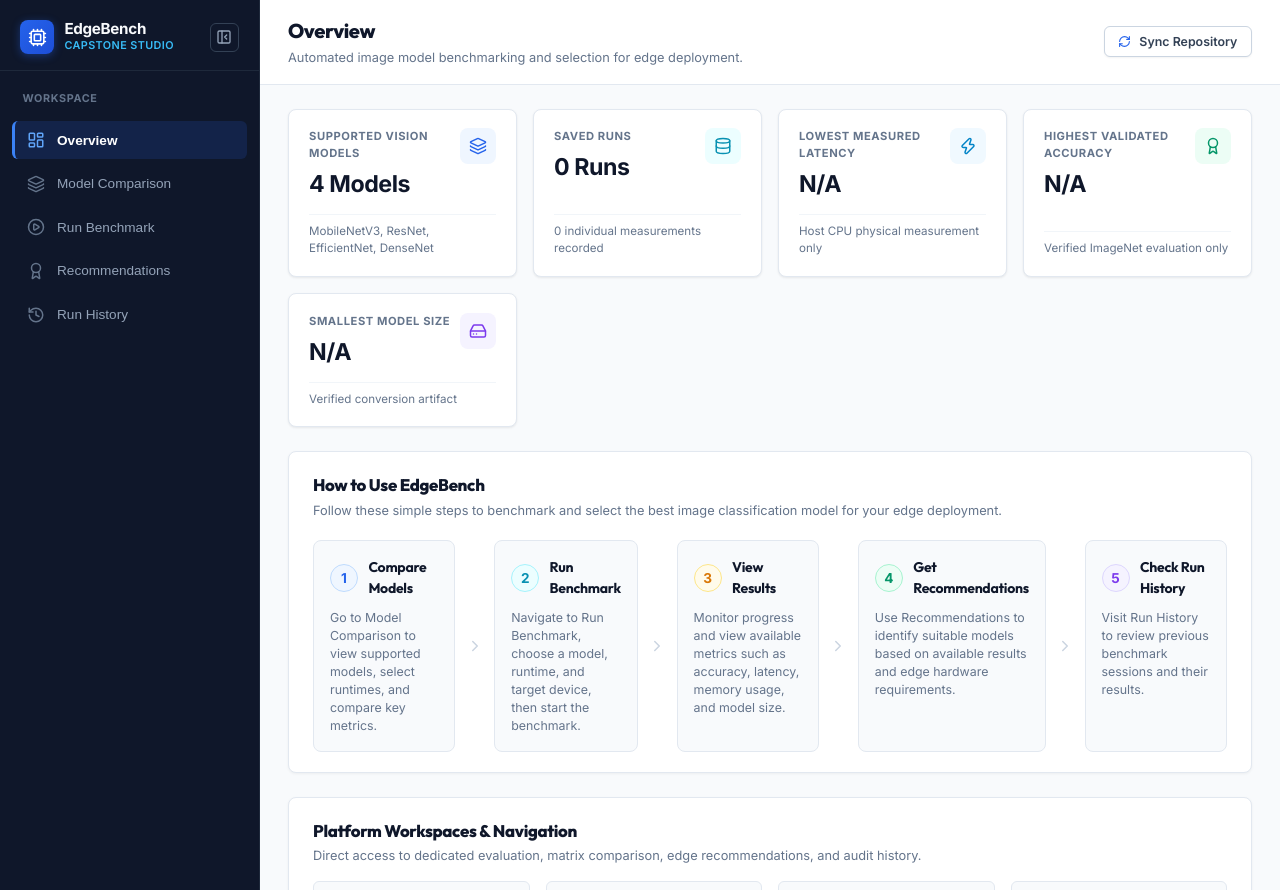
Scenario: App Integration - EdgeBench Layout & Overview Dashboard › renders unified session comparison in Model Comparison tab after user initiates comparison
Expected: the text "Supported Vision Models" is shown, 309,129 -> 428,160
Navigate to dedicated Model Comparison section
Click the button "Model Comparison" at (130, 184), box 12,165 -> 247,203
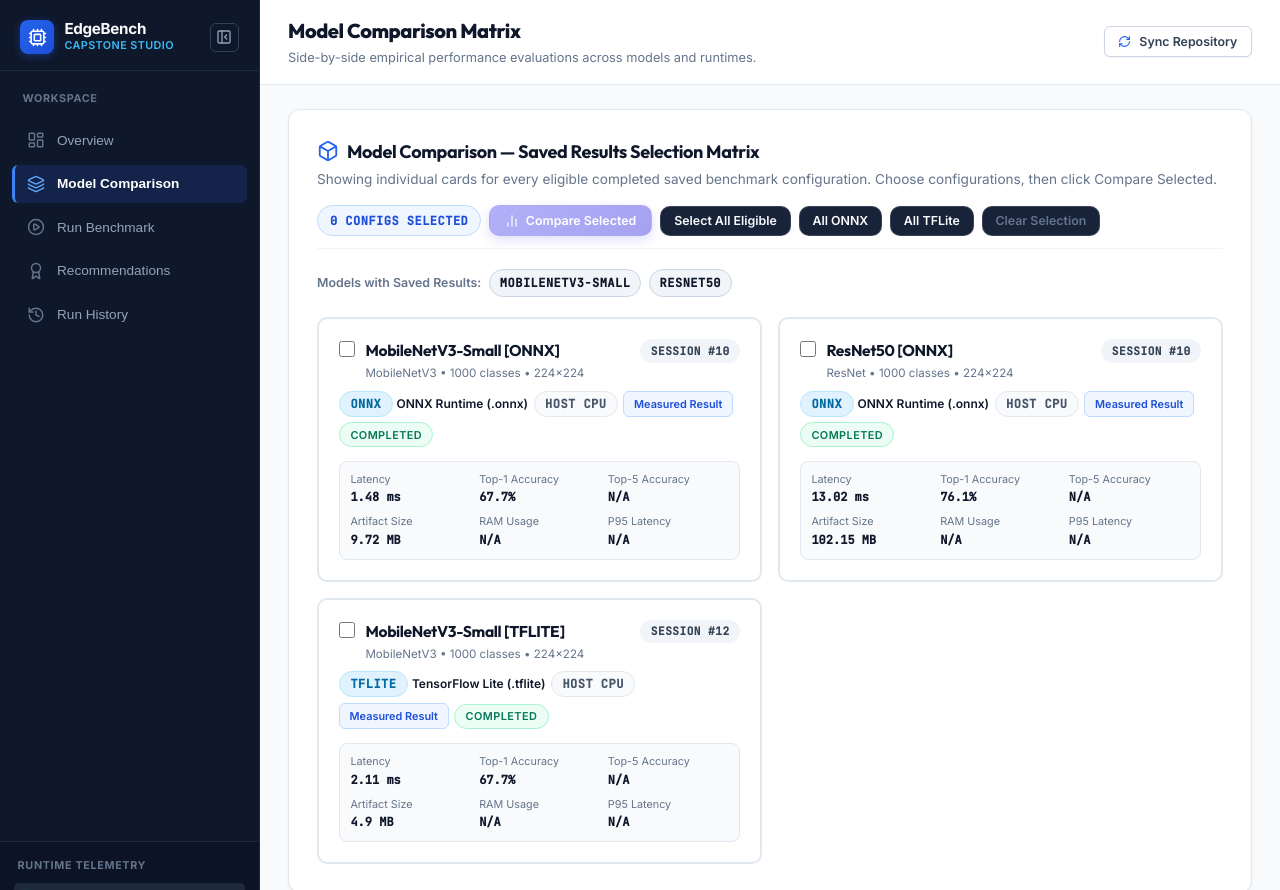
Now the text "MobileNetV3-Small" is shown, box 489,269 -> 641,297
Click the 1st checkbox labelled "ONNX ONNX Runtime (.onnx)" at (347, 349), box 339,341 -> 355,357
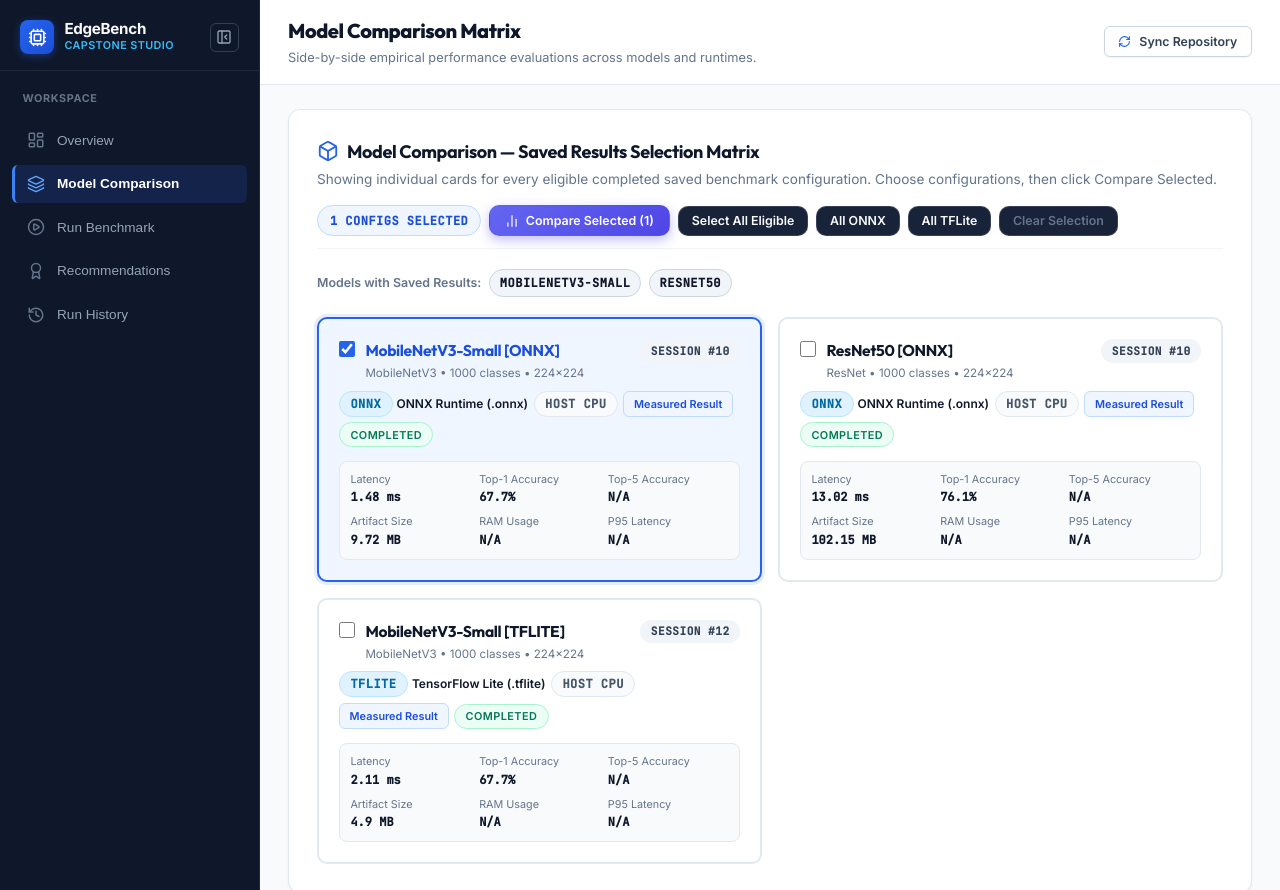
Click the 2nd checkbox labelled "ONNX ONNX Runtime (.onnx)" at (808, 349), box 800,341 -> 816,357
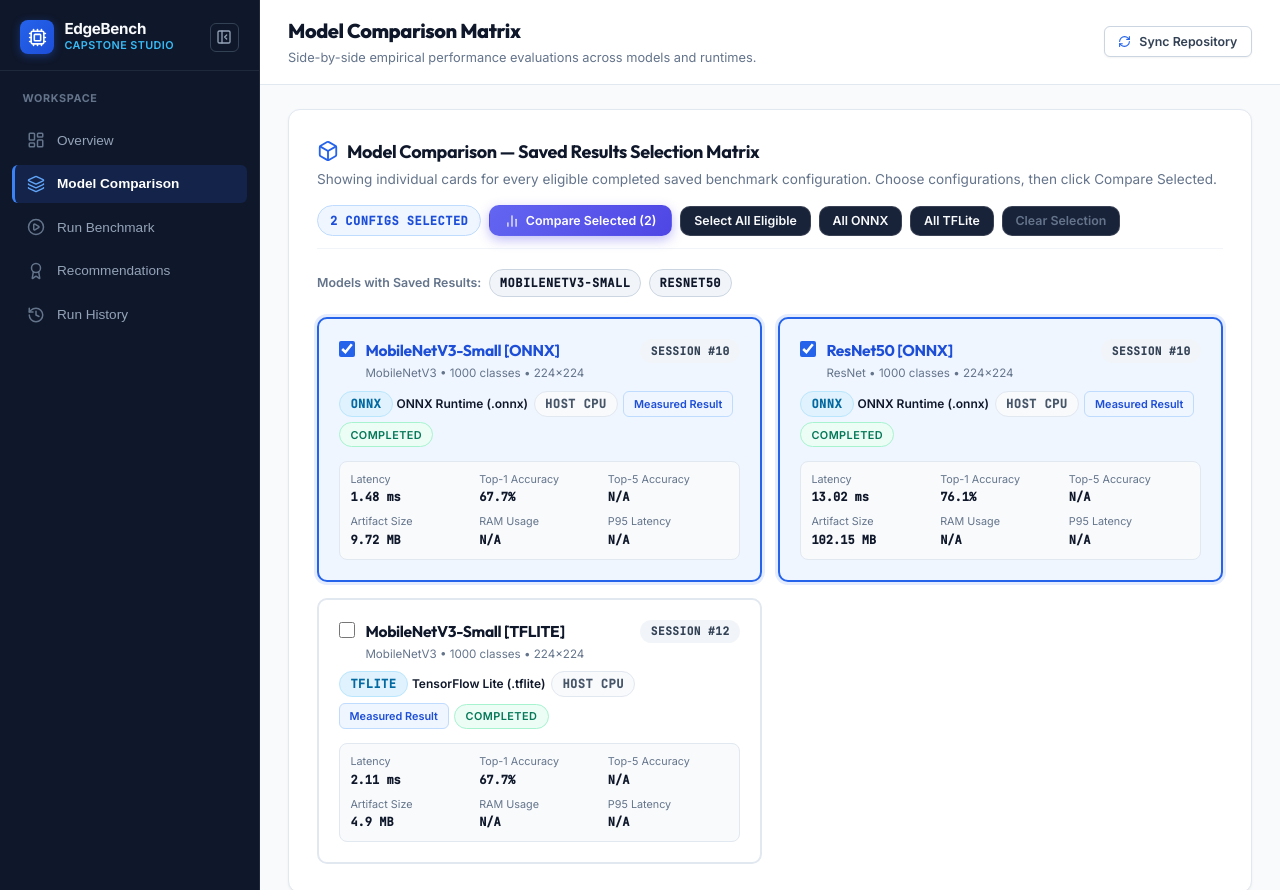
Now the button "Compare Selected (2)" is enabled
Click the button "Compare Selected (2)" at (581, 221), box 489,205 -> 672,236
(page scrolled)
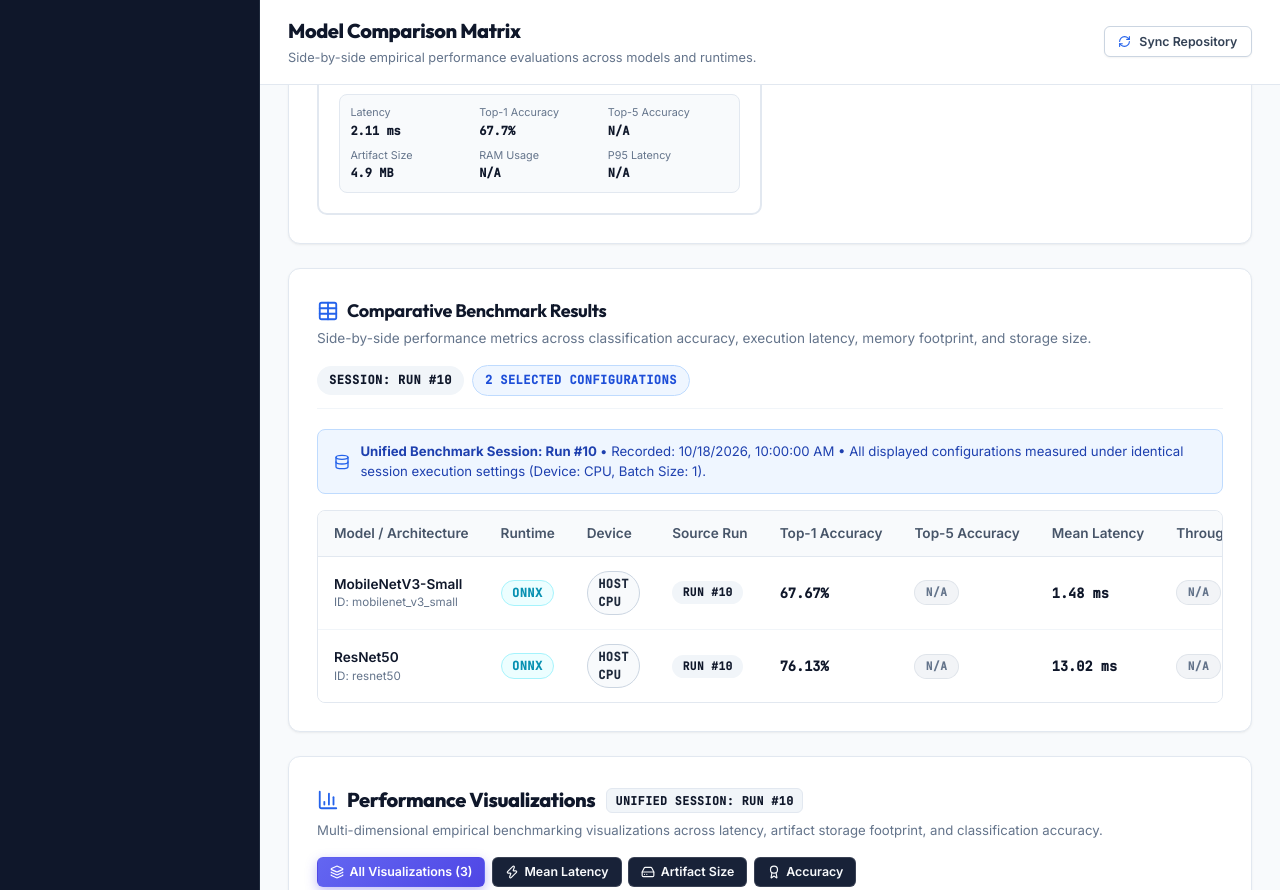
Now the heading "Performance Visualizations" is shown, box 317,785 -> 595,815
Now the heading "Comparative Benchmark Results" is shown, box 317,299 -> 606,322
Now the text "Unified Benchmark Session: Run #10" is shown, box 360,443 -> 600,459
